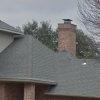Chimney: (52, 11, 77, 69)
